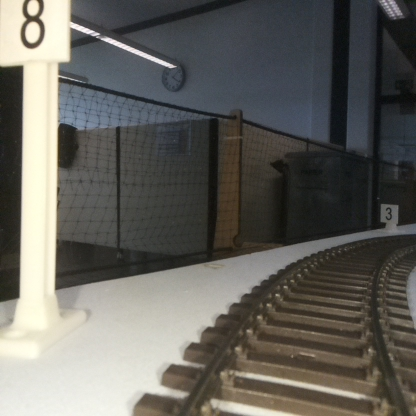white-info-8: (0, 0, 69, 344)
white-stop-3: (380, 204, 398, 232)
